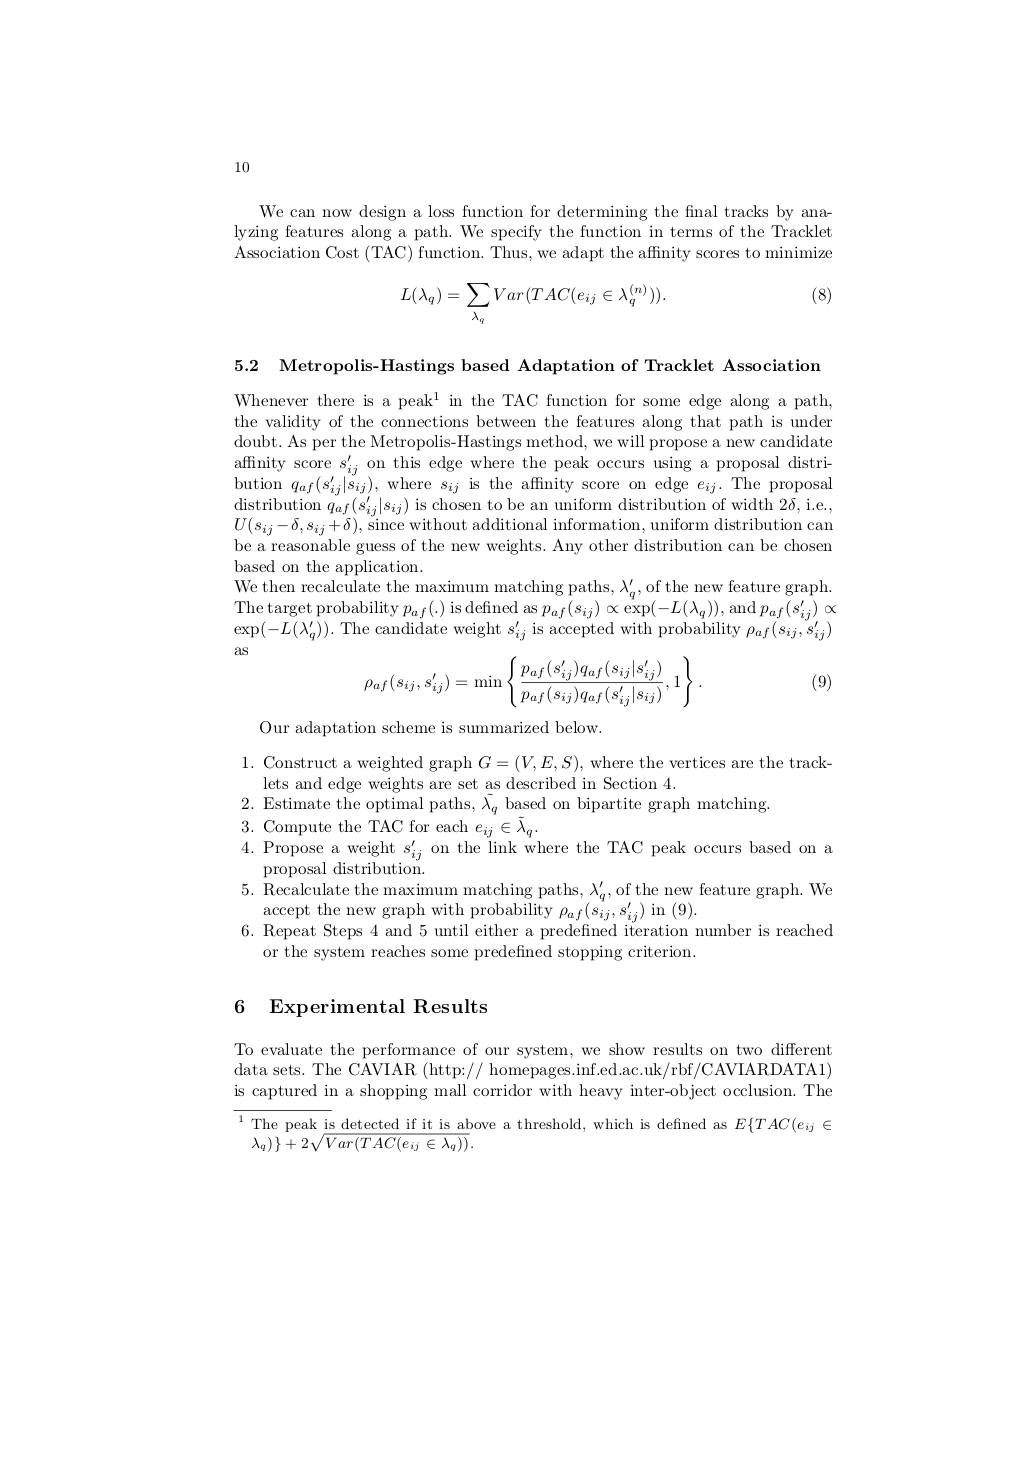formula: (364, 656, 830, 705), (400, 284, 830, 323)
